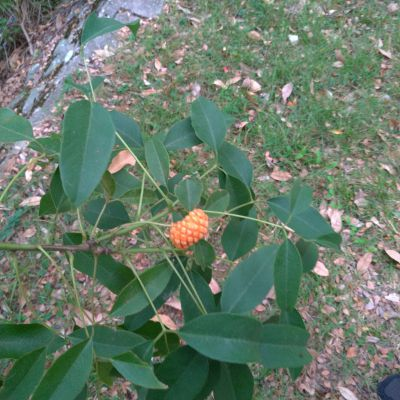eggs: (164, 207, 214, 252)
